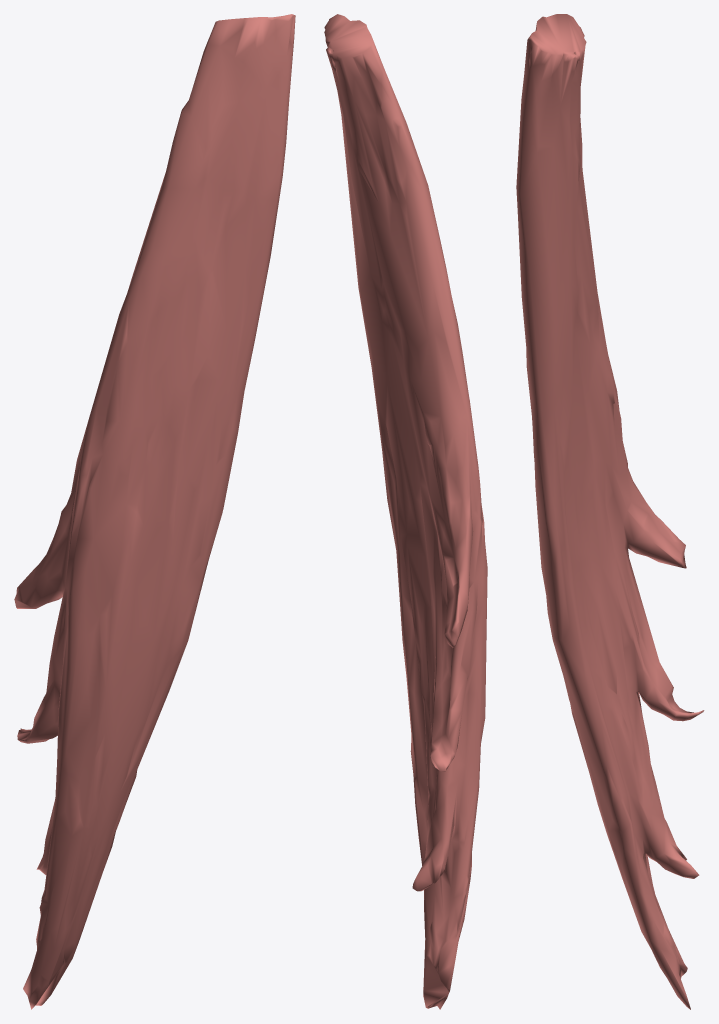
3 renders of one model, left to right at view 1: azimuth 30°, elevation 25°; view 2: azimuth 150°, elevation 25°; view 3: azimuth 270°, elevation 25°, orthographic. The views are drawn at different scales.
Parts seen in each view (by area): view 1: ZA_29a0d6bc1f74e0b5; view 2: ZA_29a0d6bc1f74e0b5; view 3: ZA_29a0d6bc1f74e0b5.
Part boxes in pixels (x1,y1,x2,y2): ZA_29a0d6bc1f74e0b5: [14, 14, 295, 1009]; ZA_29a0d6bc1f74e0b5: [324, 14, 487, 1009]; ZA_29a0d6bc1f74e0b5: [516, 14, 704, 1009].
Bounding box in the file's own units: 0.0243 × 0.1101 × 0.0176.
